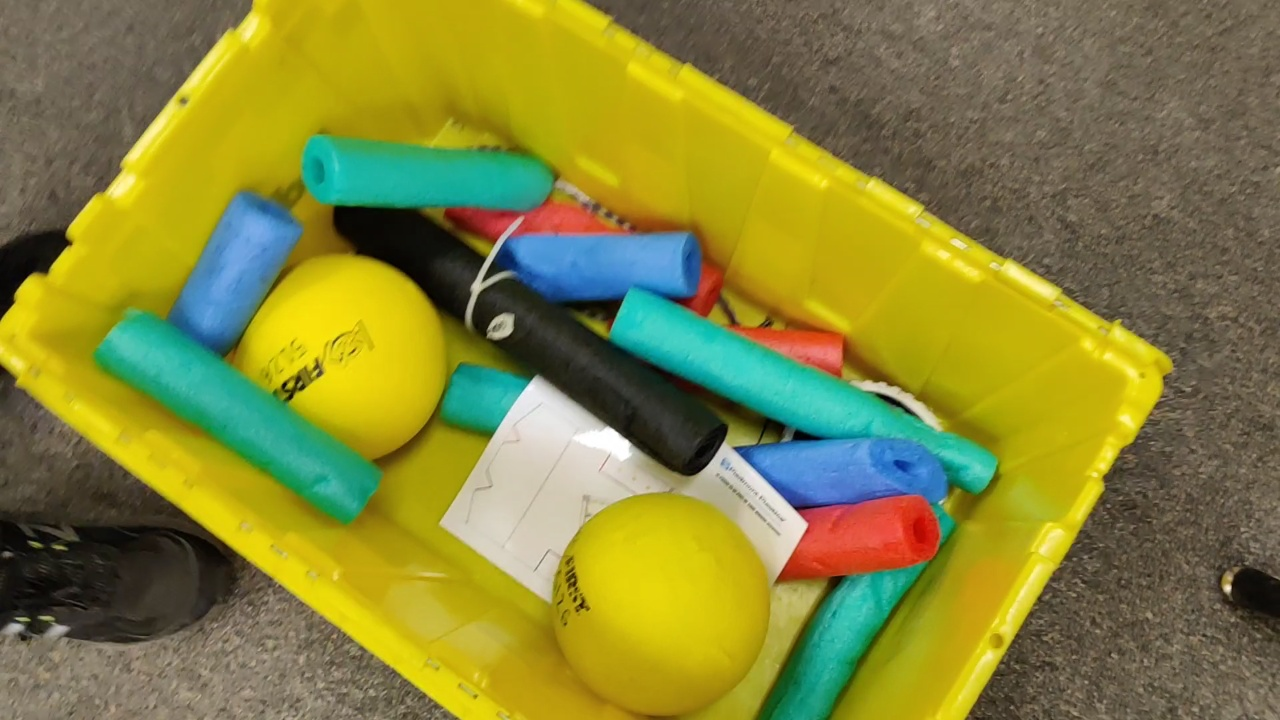Ball: (552, 492, 771, 717), (242, 254, 442, 459)
